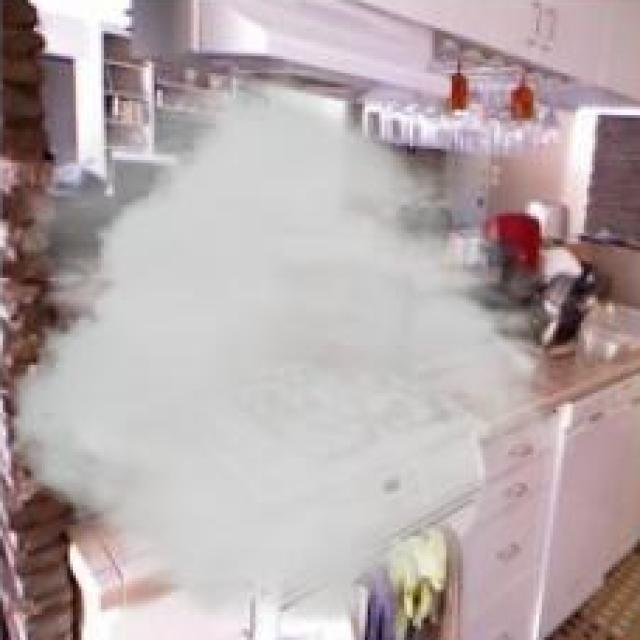fire: (9, 69, 578, 633)
